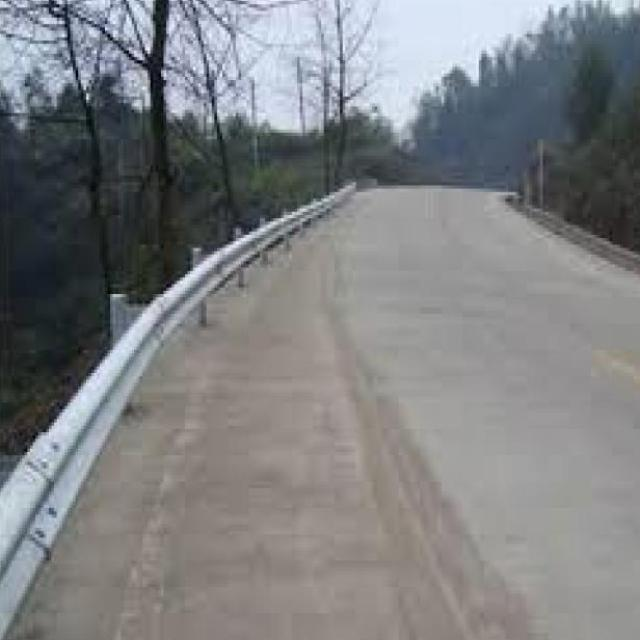Guard rail: (0, 183, 354, 640)
